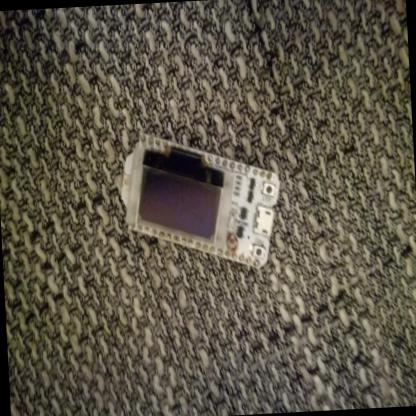Heltec_ESP32_Lora: (116, 123, 291, 283)
